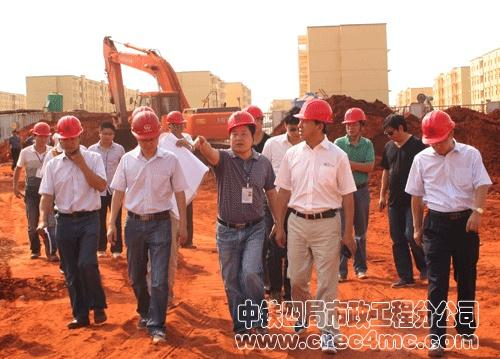Helmet: (284, 141, 348, 214), (118, 148, 179, 213)
NoHelmet: (54, 115, 83, 151), (98, 122, 116, 145)
